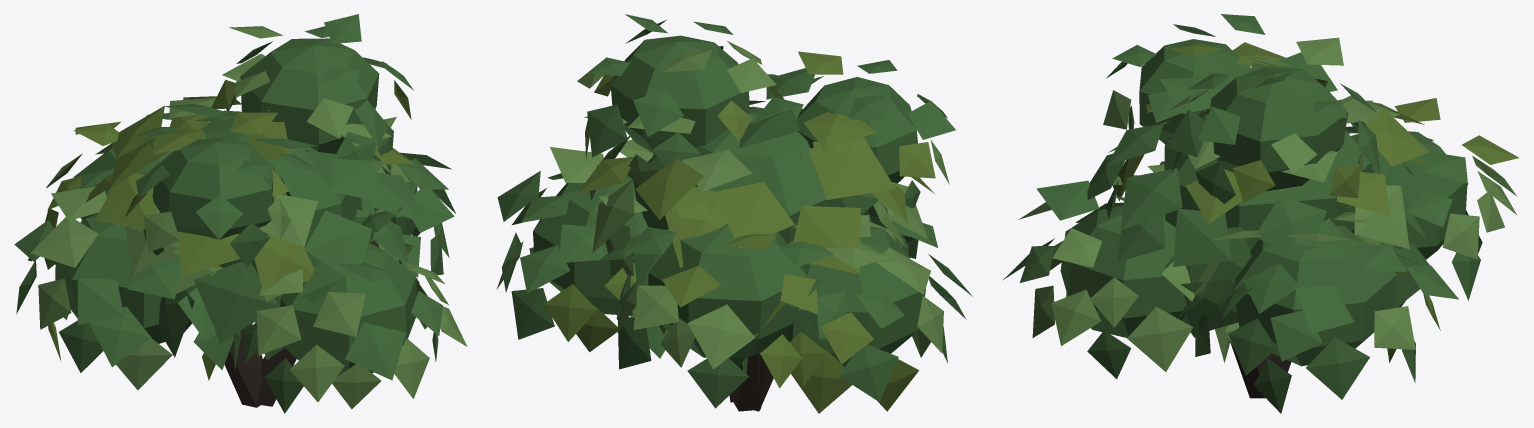
Rendered from bush_leafy.glb.
The picture shows the model from 3 angles, left to right: view 1: azimuth 30°, elevation 25°; view 2: azimuth 150°, elevation 25°; view 3: azimuth 270°, elevation 25°; orthographic projection. The views are drawn at different scales.
Parts seen in each view (by area): view 1: BushLeafy; view 2: BushLeafy; view 3: BushLeafy.
Boxes of the visible parts, x1=… form: BushLeafy: x1=14, y1=14, x2=467, y2=413; BushLeafy: x1=496, y1=14, x2=972, y2=413; BushLeafy: x1=1002, y1=14, x2=1518, y2=413.
Bounding box in the file's own units: 0.817 × 0.6635 × 0.8437.
